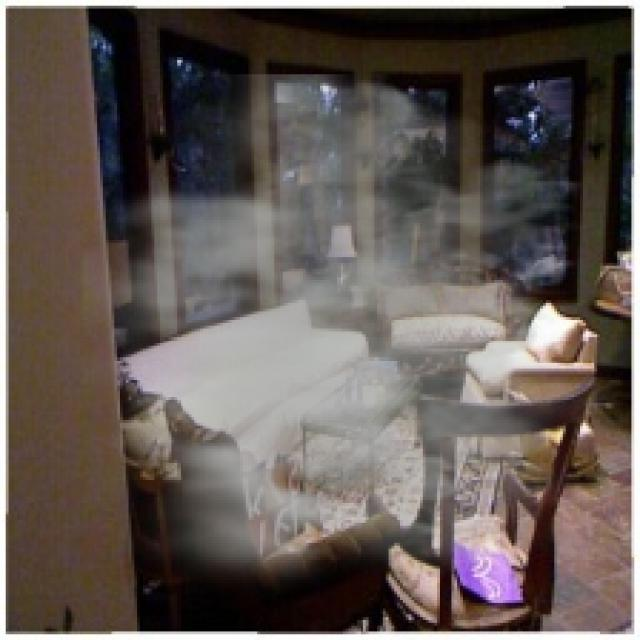smoke: (80, 75, 634, 614)
